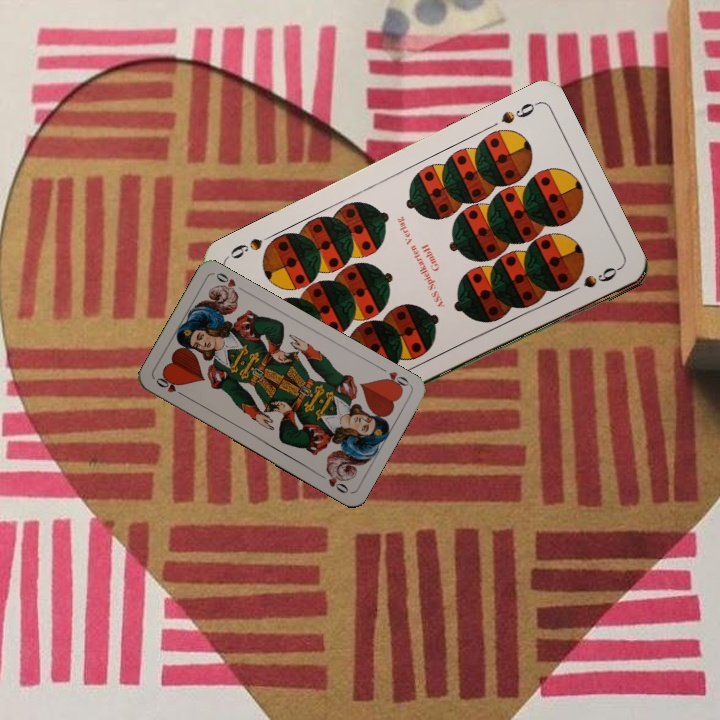HO: (375, 362, 412, 393), (152, 374, 189, 400)
S9: (497, 98, 541, 127)
